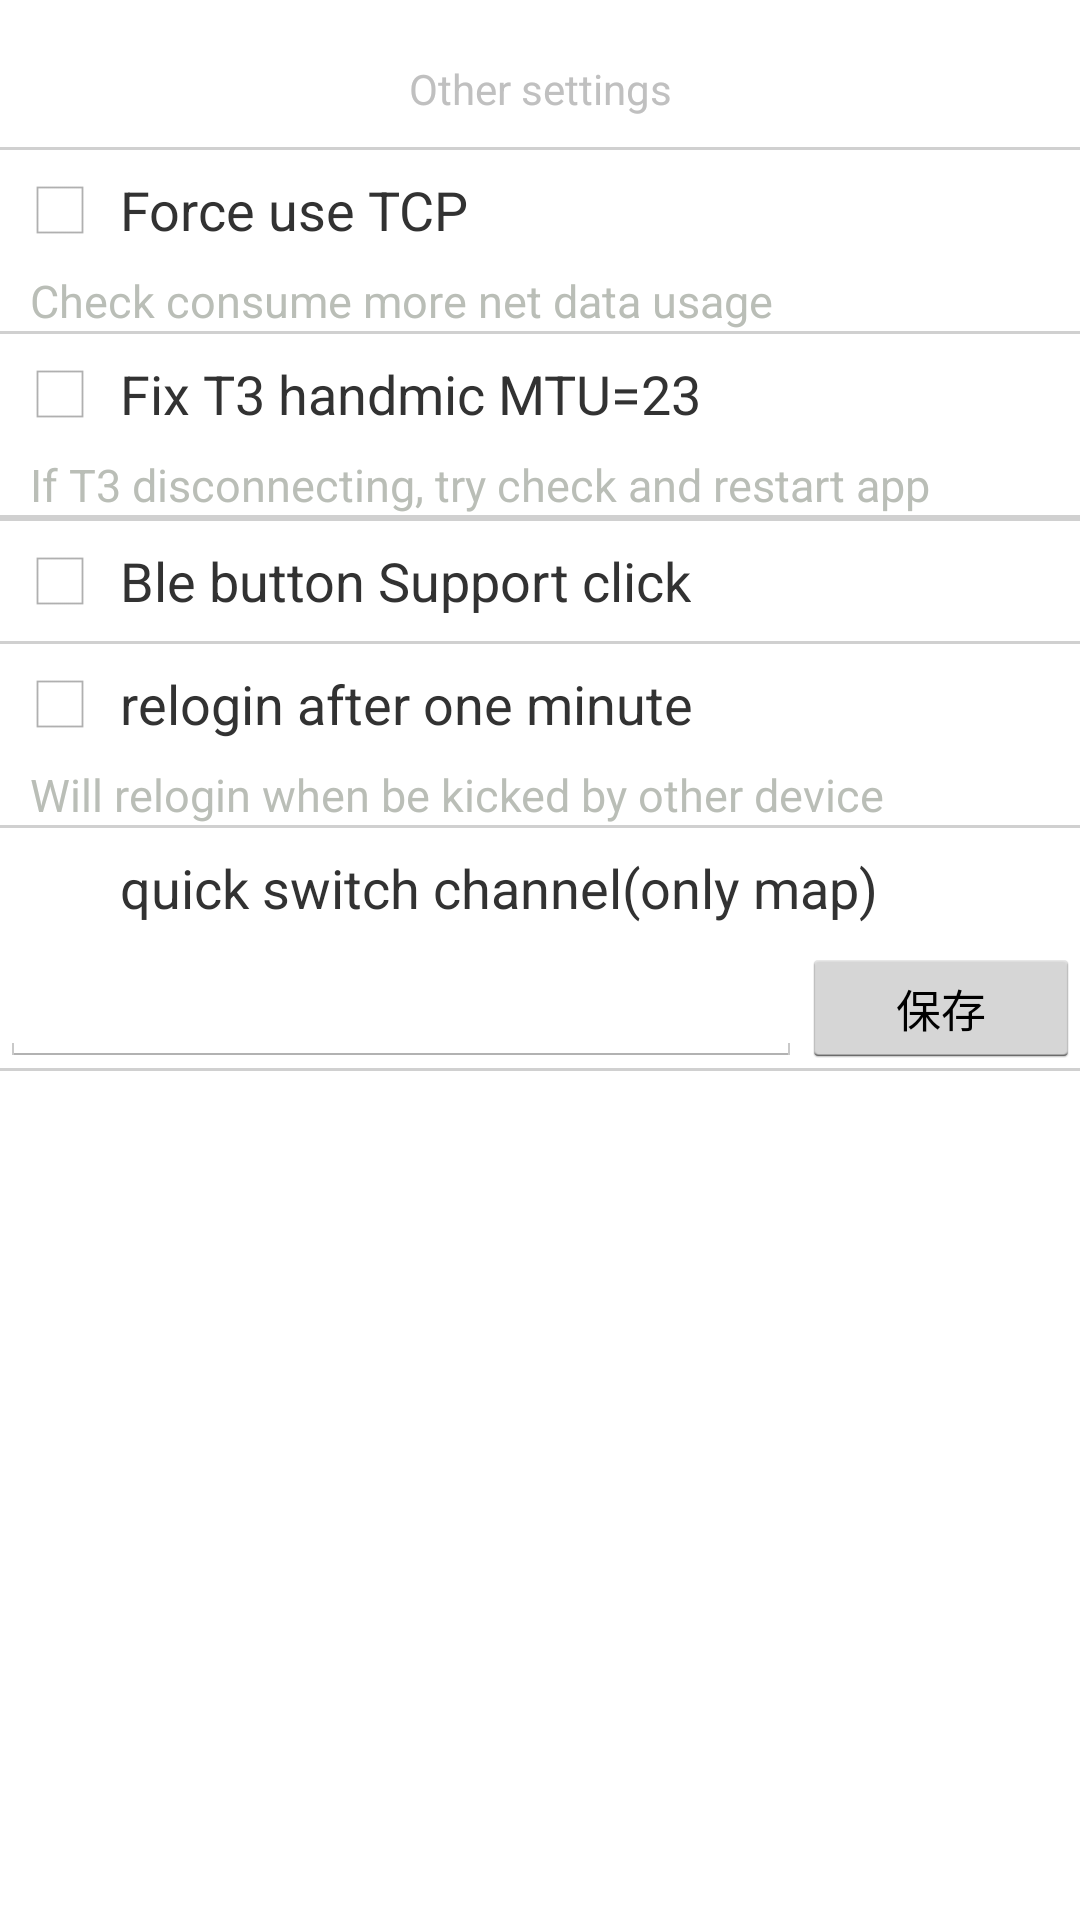

Where to tap for icons on this 1080*1920 app screen, as (x=x, y=y):
checkbox off: (x=60, y=210), (x=60, y=394), (x=60, y=581), (x=60, y=704)
